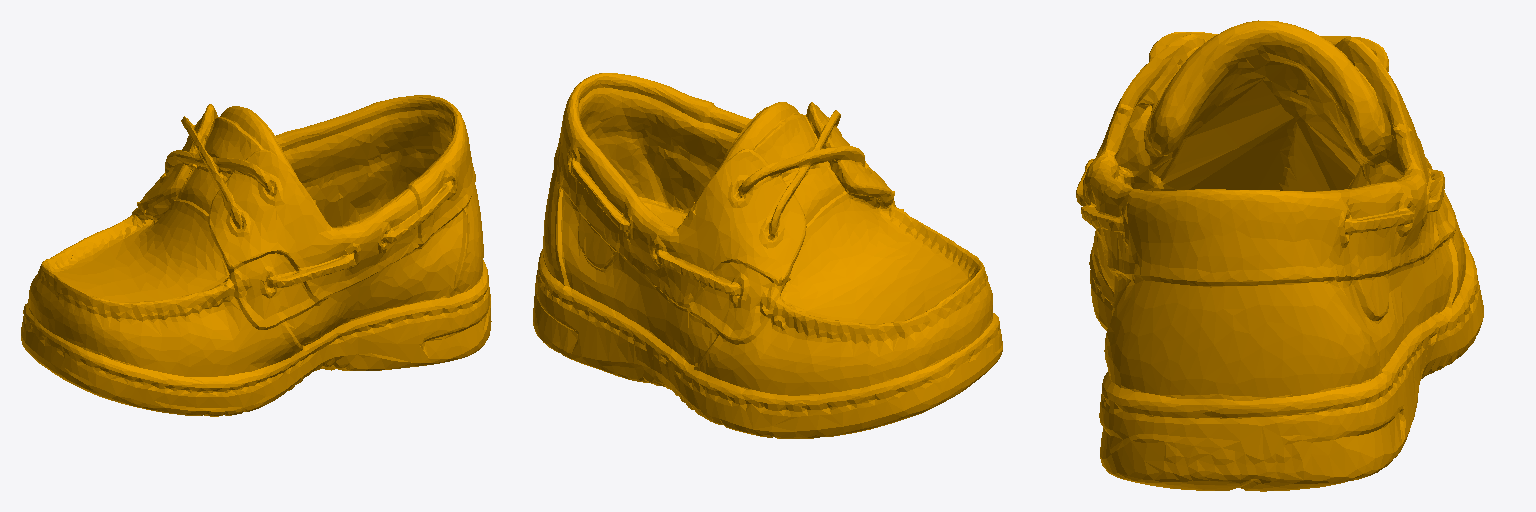
URDF robot description (dtjiquy4):
<?xml version='1.0'?>

<robot name="dtjiquy4">
    <static>false</static>
    <link name="link">
        <inertial>
            <mass value="0.08742617217535517"/>
            <inertia ixx="7.371083627155684e-05" ixy="9.191644177568952e-06" ixz="1.0412206538610462e-06"
                     iyy="0.00017063998867351623" iyz="2.7825693006458887e-06" izz="0.00018313164429046978"/>
        </inertial>
        <collision name="collision">
            <geometry>
                <mesh filename="package://miscnet/train/dtjiquy4/collision_model_vhacd.obj"/>
            </geometry>
        </collision>
        <visual name="visual">
            <geometry>
                <mesh filename="package://miscnet/train/dtjiquy4/visual_model.obj"/>
            </geometry>
        </visual>
    </link>
</robot>

--- Facts derived from the render (not from the file) ---
Views: 3 orthographic renders of the robot side by side, from view 1: azimuth 30°, elevation 25°; view 2: azimuth 150°, elevation 25°; view 3: azimuth 270°, elevation 25°.
Robot: dtjiquy4 — 1 links, 0 joints (none); root link link; default pose: all joints at 0.
Links seen in each view (by area): view 1: link; view 2: link; view 3: link.
Link boxes in pixels (x1,y1,x2,y2): link: (21, 95, 491, 416); link: (533, 73, 1002, 438); link: (1076, 20, 1483, 491).
Size in the robot's own frame: 0.1499 by 0.0921 by 0.0864 metres.
Meshes: 1 distinct files referenced, 1 mesh visuals loaded (1 OBJ).
